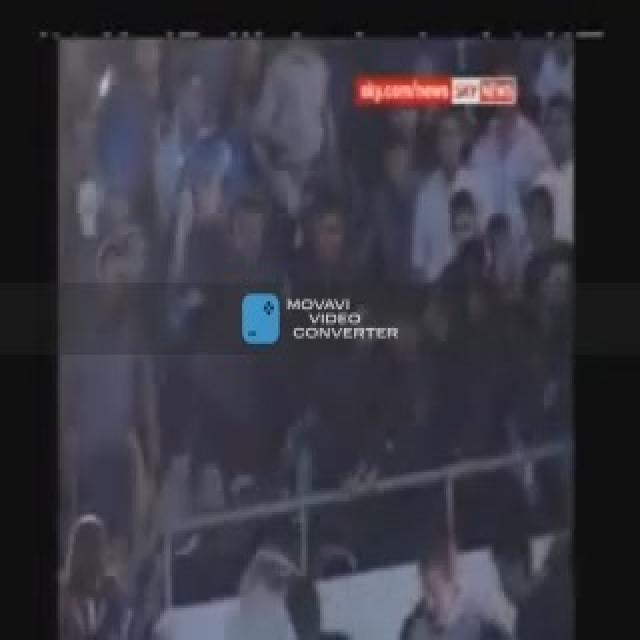non-voilence: (52, 30, 578, 638)
